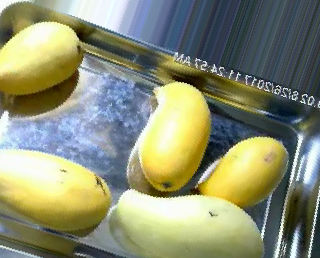Mango: (111, 184, 269, 257), (1, 145, 113, 233), (138, 79, 213, 192), (195, 133, 289, 213), (1, 18, 84, 102)
